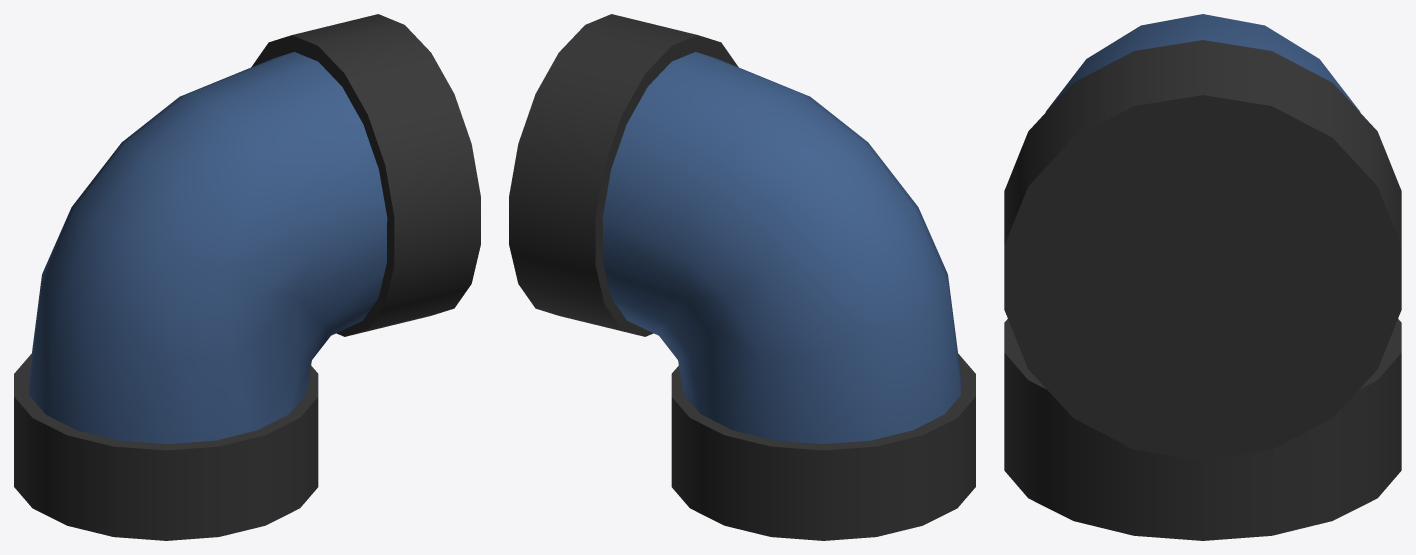
Rendered from BlueMetalDecorationLargePipeElbow1.fbx.
3 renders of one model, left to right at view 1: azimuth 30°, elevation 25°; view 2: azimuth 150°, elevation 25°; view 3: azimuth 270°, elevation 25°, orthographic. The views are drawn at different scales.
Visible parts, largest first — view 1: BlueMetalDecorationLargePipeElbow2; view 2: BlueMetalDecorationLargePipeElbow2; view 3: BlueMetalDecorationLargePipeElbow2.
Boxes of the visible parts, x1,y1,x2,y2 form: BlueMetalDecorationLargePipeElbow2: (14, 14, 480, 540); BlueMetalDecorationLargePipeElbow2: (509, 14, 975, 540); BlueMetalDecorationLargePipeElbow2: (1004, 14, 1401, 540).
Bounding box in the file's own units: 230 × 231 × 162.
